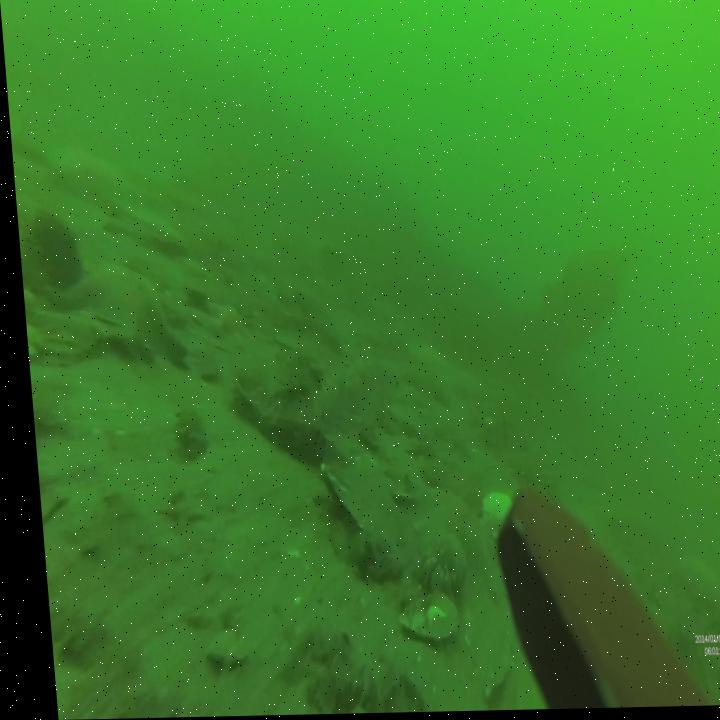starfish: (67, 257, 183, 365), (382, 463, 486, 582), (202, 297, 242, 351)
